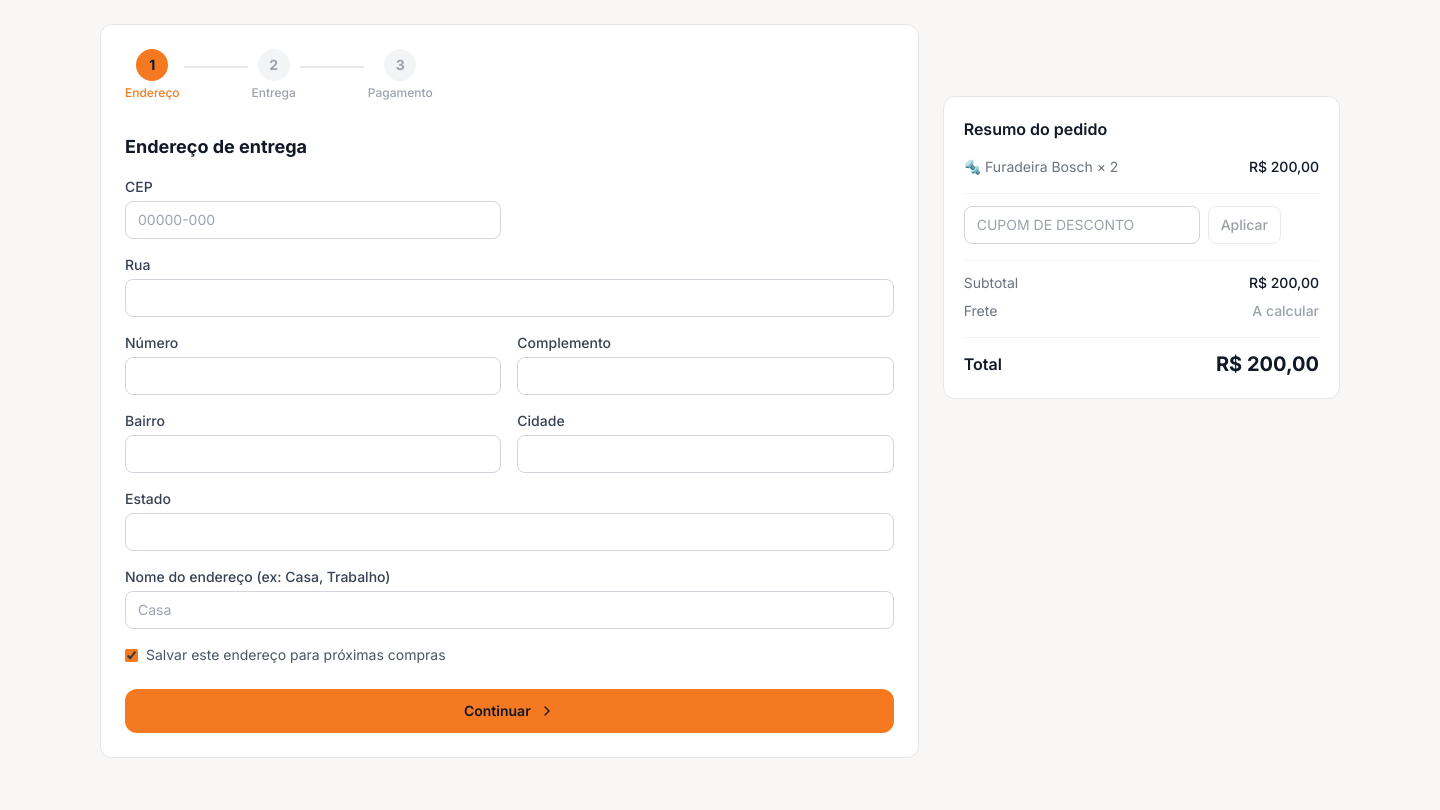
Test: CheckoutPage — cupom de desconto › cupom inexistente mostra erro e não aplica
Type "NAOEXISTE" into the field labelled "Cupom de desconto" at (1082, 225), box [964, 206, 1200, 244]
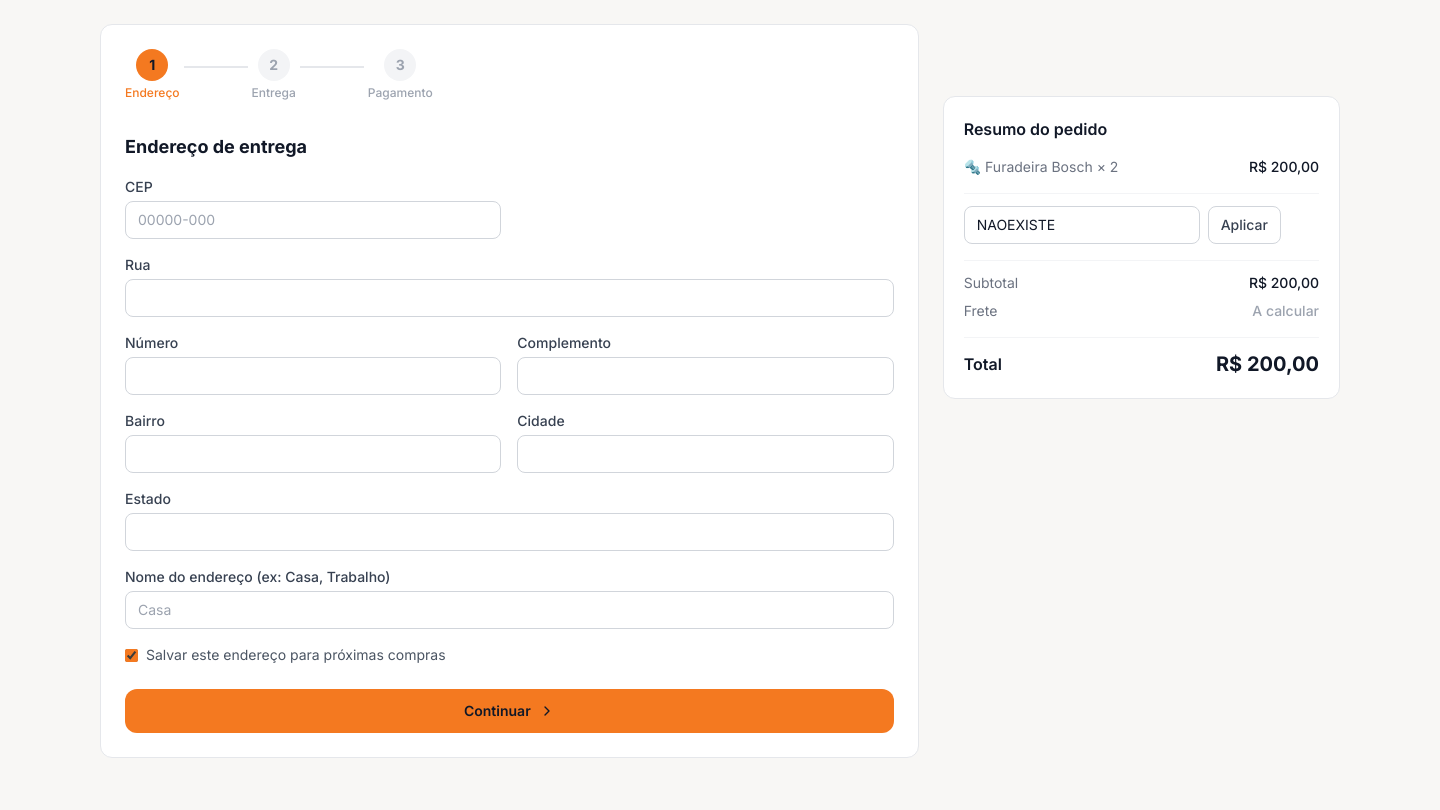
Click the button "Aplicar" at (1244, 225), box [1208, 206, 1281, 244]
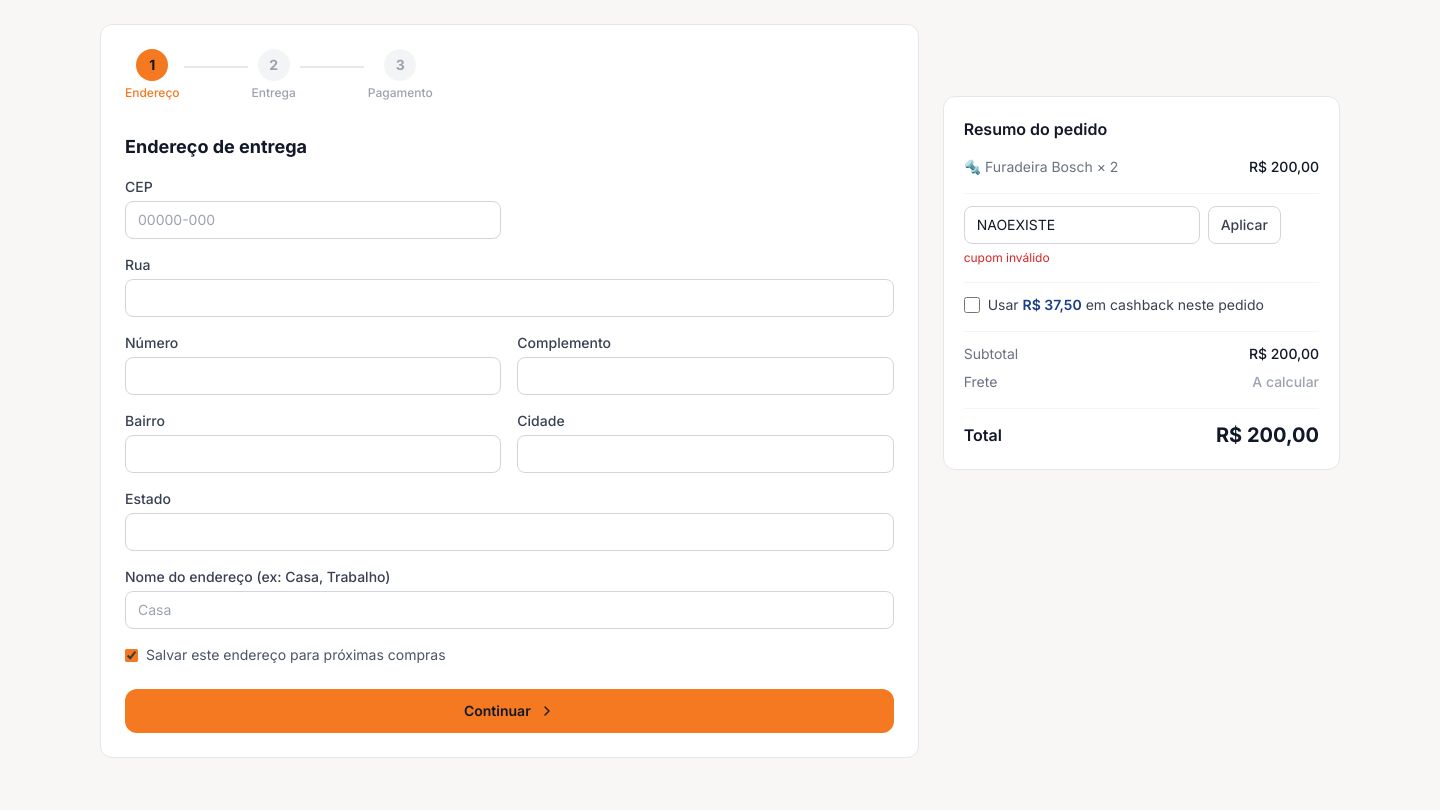
expect the text "cupom inválido" is shown: met, box [964, 250, 1050, 265]
